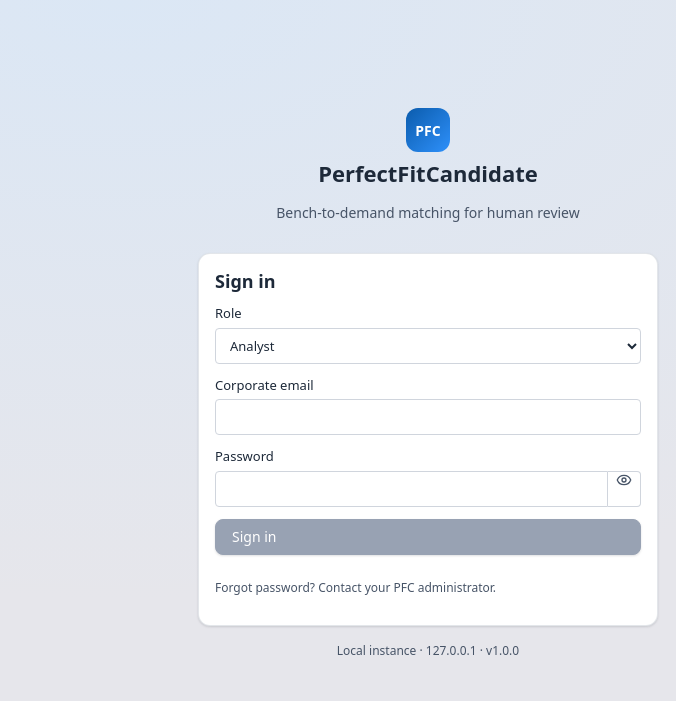
Scenario: routing guards (GUI_OCC_DESIGN.md §7.4, §4.3) › shows a generic error for a role mismatch
Select "Analyst" in the dropdown labelled "Role" at (428, 346), box [215, 328, 641, 364]
Type "olivia.admin@example.com" into the field labelled "Corporate email".
click(428, 417); type("olivia.admin@example.com")  # box [215, 399, 641, 435]
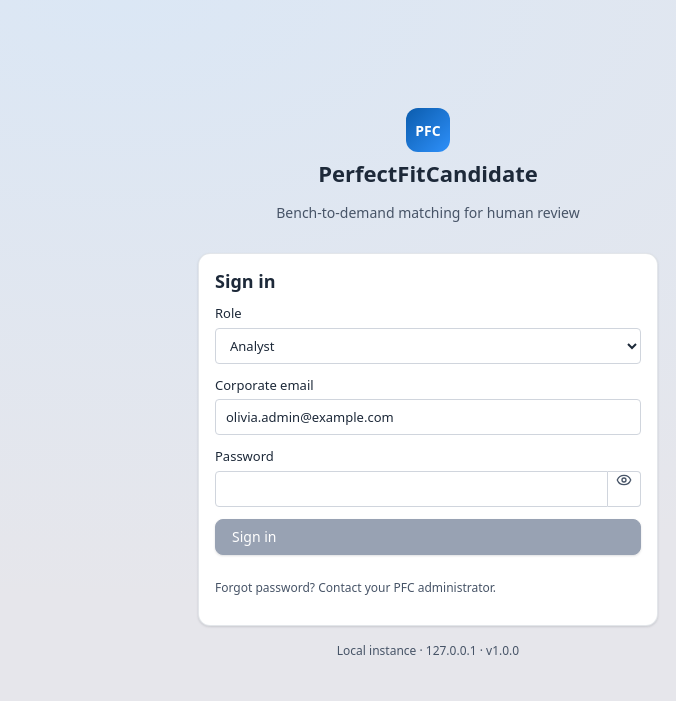
Type "Str0ng!Passphrase#42" into the password field labelled "Password".
click(412, 489); type("Str0ng!Passphrase#42")  # box [215, 471, 608, 507]
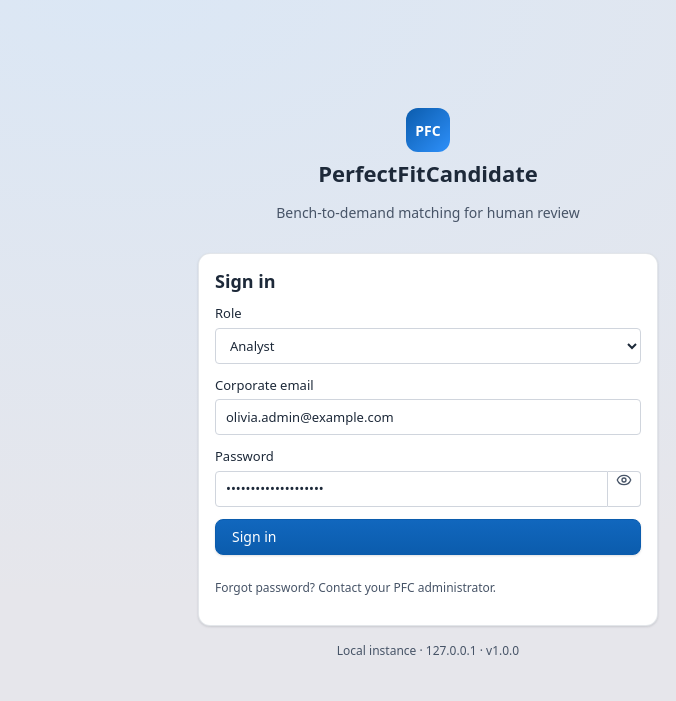
Click the button "Sign in".
click(254, 537)  # box [215, 519, 641, 555]
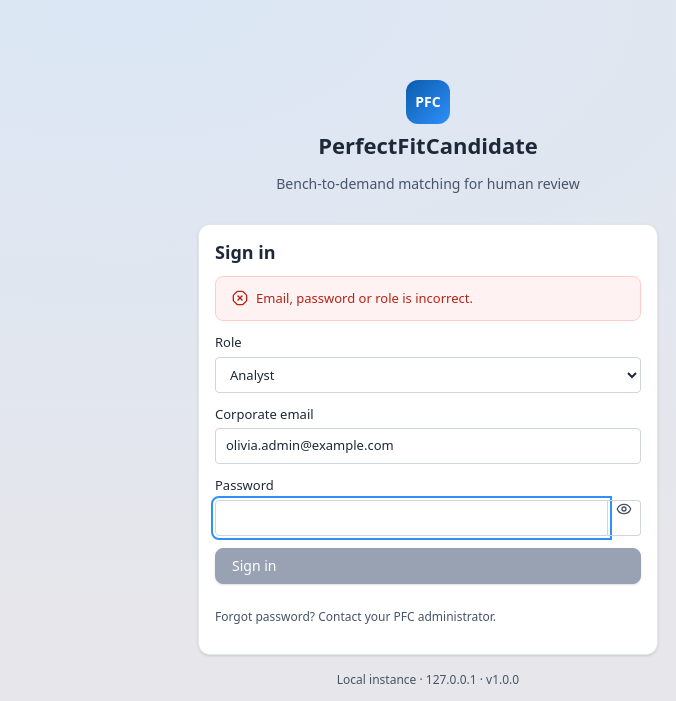
Expected: the text "Email, password or role is incorrect." is shown, [256, 288, 473, 308]
